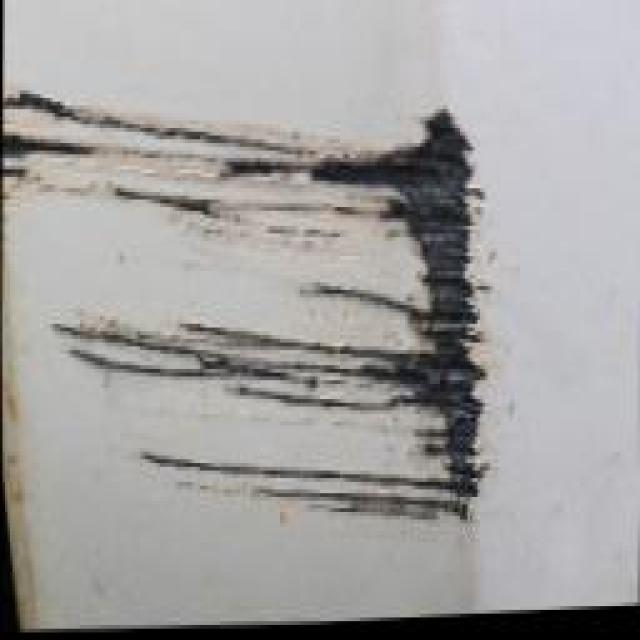Fender: (0, 0, 555, 591)
